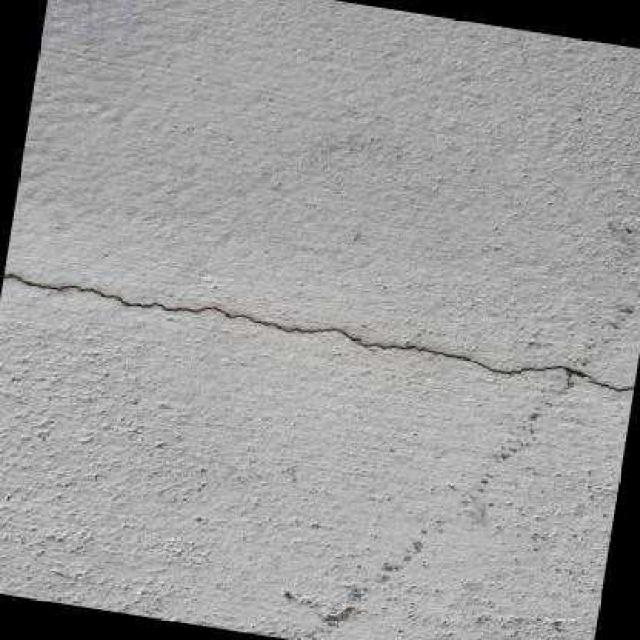D00: (3, 270, 634, 390)
